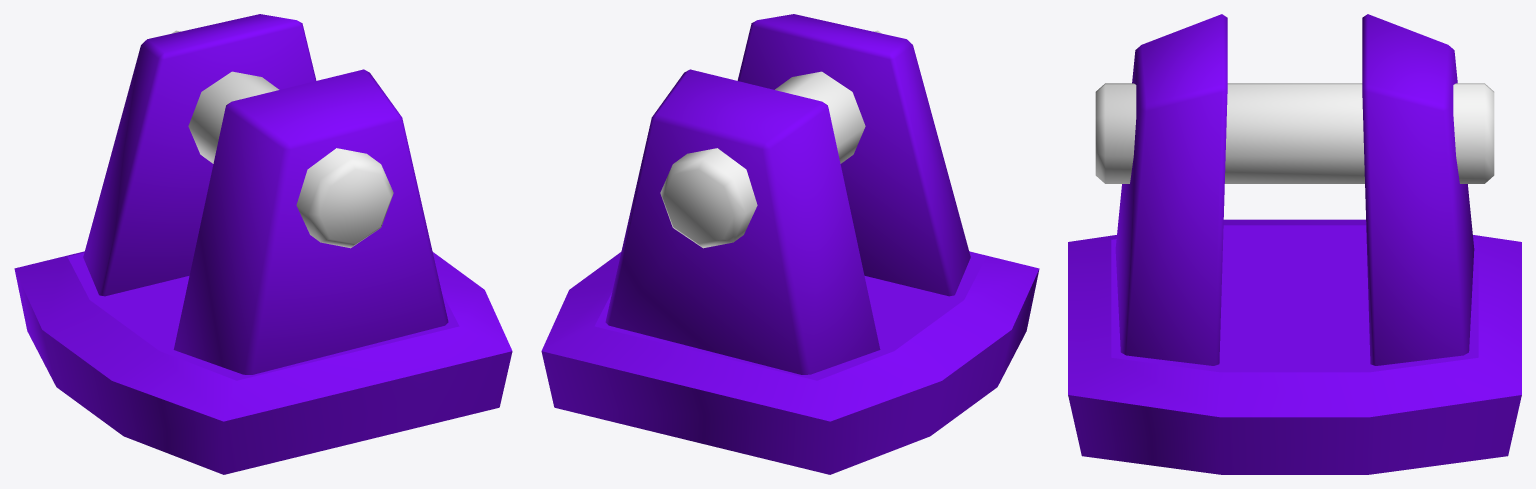
The model's file is Ground_Hammer_Socket_07.fbx.
The picture shows the model from 3 angles, left to right: view 1: azimuth 30°, elevation 25°; view 2: azimuth 150°, elevation 25°; view 3: azimuth 270°, elevation 25°; orthographic projection. The views are drawn at different scales.
Visible parts, largest first — view 1: Obstacle_Ground_Hammer_Socket_07; view 2: Obstacle_Ground_Hammer_Socket_07; view 3: Obstacle_Ground_Hammer_Socket_07.
Boxes of the visible parts, x1=… form: Obstacle_Ground_Hammer_Socket_07: x1=14, y1=14, x2=512, y2=474; Obstacle_Ground_Hammer_Socket_07: x1=541, y1=14, x2=1039, y2=474; Obstacle_Ground_Hammer_Socket_07: x1=1068, y1=14, x2=1521, y2=474.
Size of the model in its own units: 80.21 by 63.38 by 77.95.
Materials: 1 (1 with a texture image).
